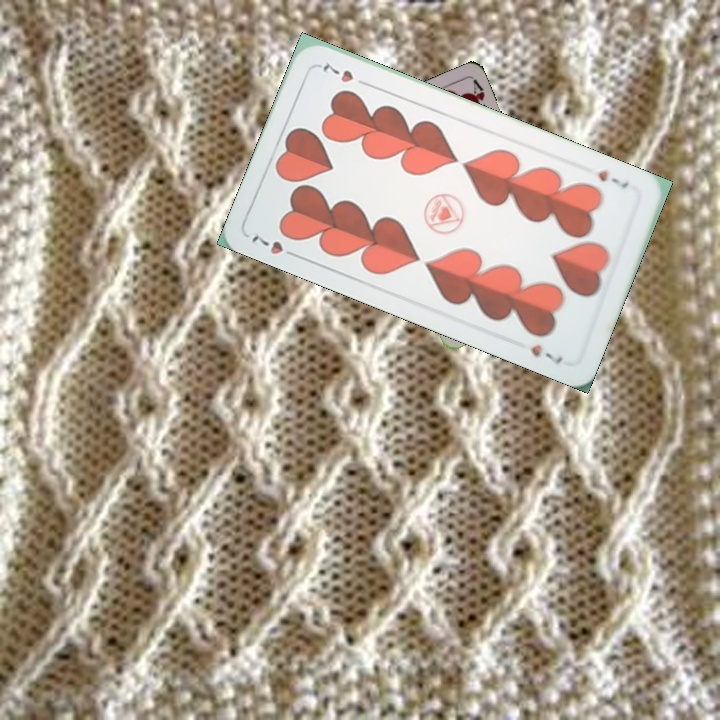H7: (247, 231, 303, 261), (593, 166, 632, 192)
